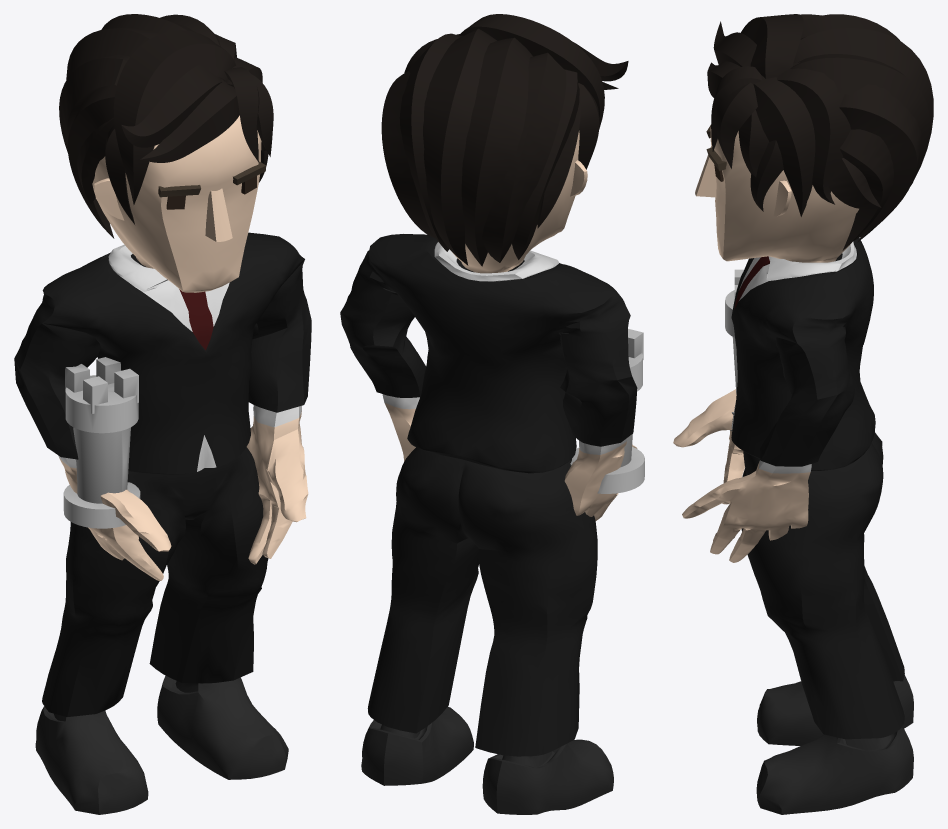
File: av-xadrezista-sombrio.glb
3 views of the same model, side by side, from view 1: azimuth 30°, elevation 25°; view 2: azimuth 150°, elevation 25°; view 3: azimuth 270°, elevation 25° (orthographic).
Visible parts, largest first — view 1: Ad_peca_xadrez_0_0; view 2: Ad_peca_xadrez_0_0; view 3: Ad_peca_xadrez_0_0.
Part boxes in pixels (x1,y1,x2,y2): Ad_peca_xadrez_0_0: [14, 14, 311, 814]; Ad_peca_xadrez_0_0: [340, 14, 644, 814]; Ad_peca_xadrez_0_0: [673, 14, 933, 814].
Size of the model in its own units: 0.5482 by 1.36 by 0.4338.
Materials: 1 (1 with a texture image).
